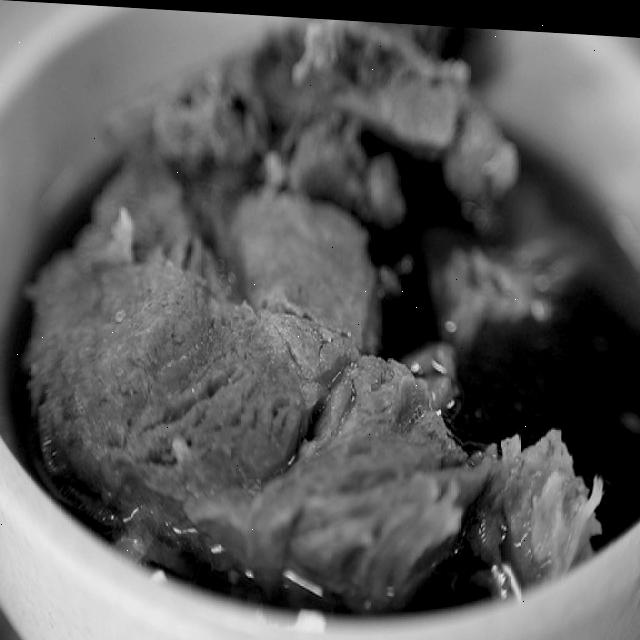汤锅炖物: (14, 1, 624, 604)
